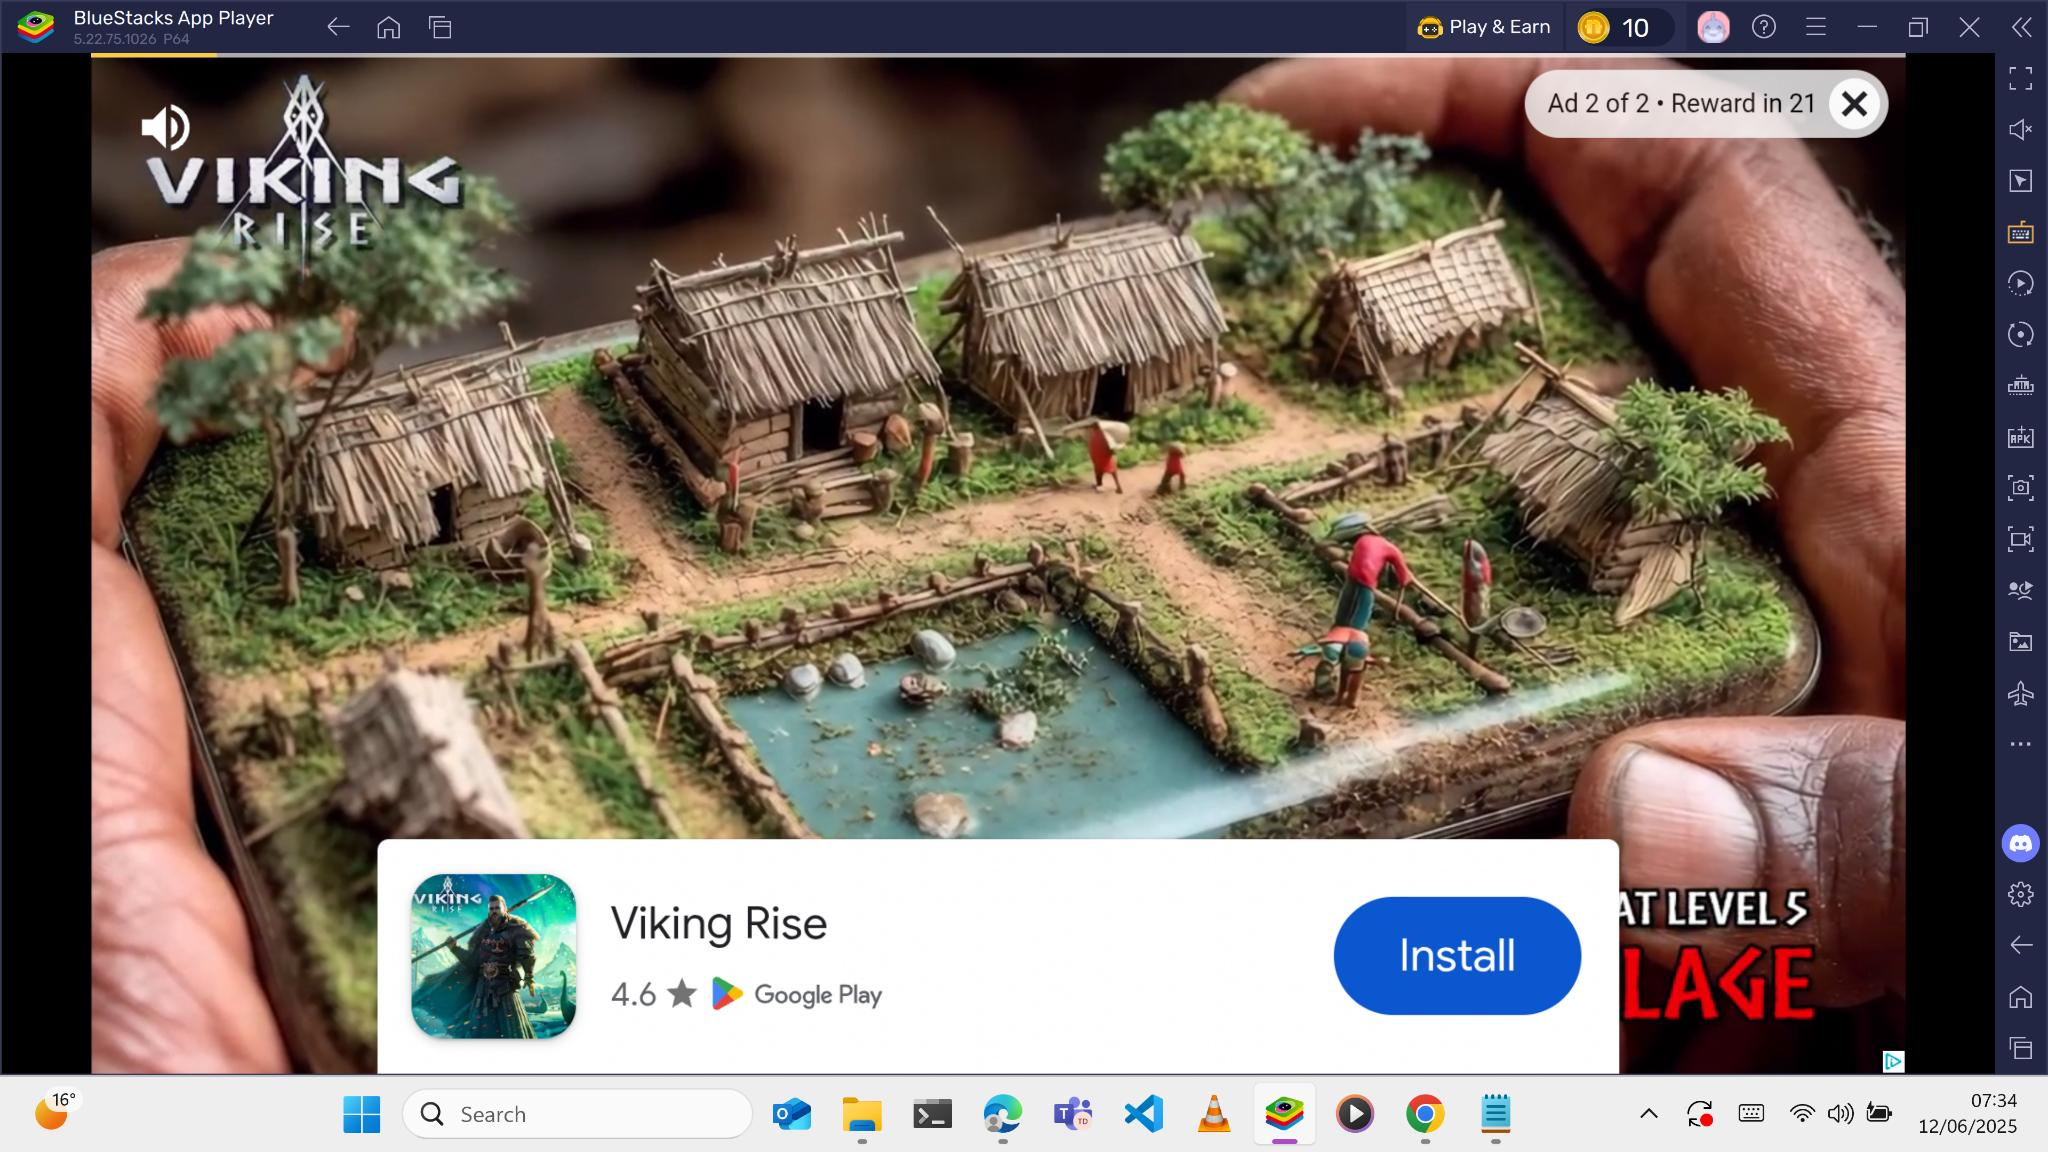close_ad: (1838, 89, 1871, 118)
